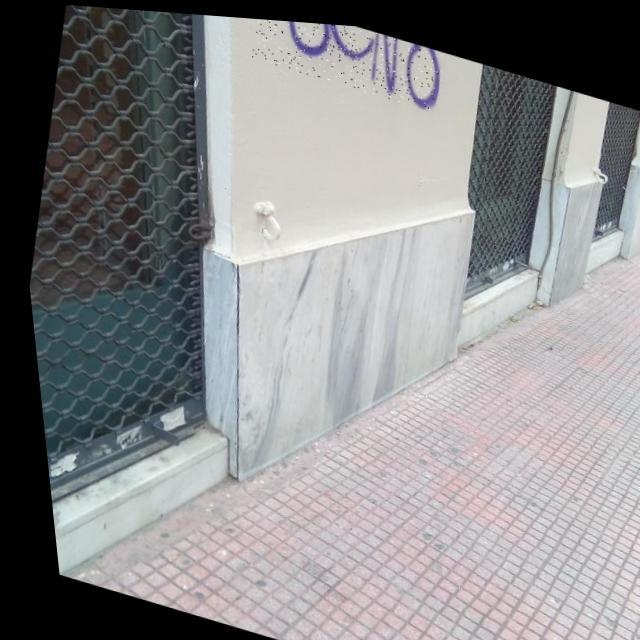-: (245, 15, 446, 106)
